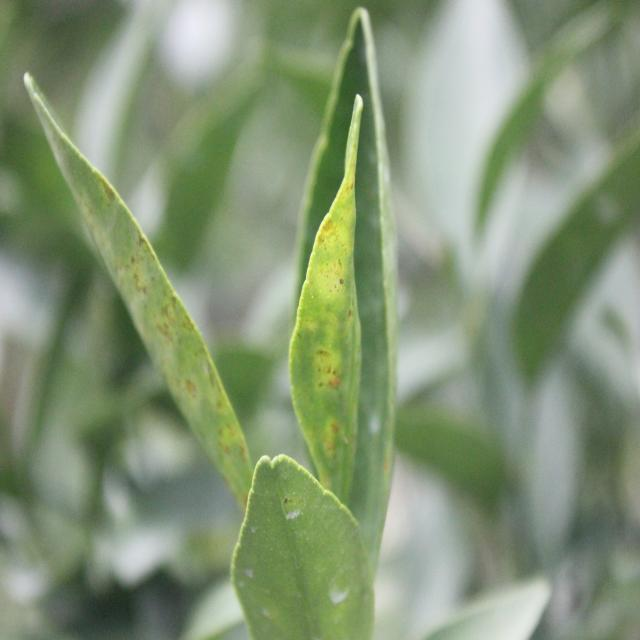canker: (67, 141, 260, 507), (293, 100, 378, 506)
